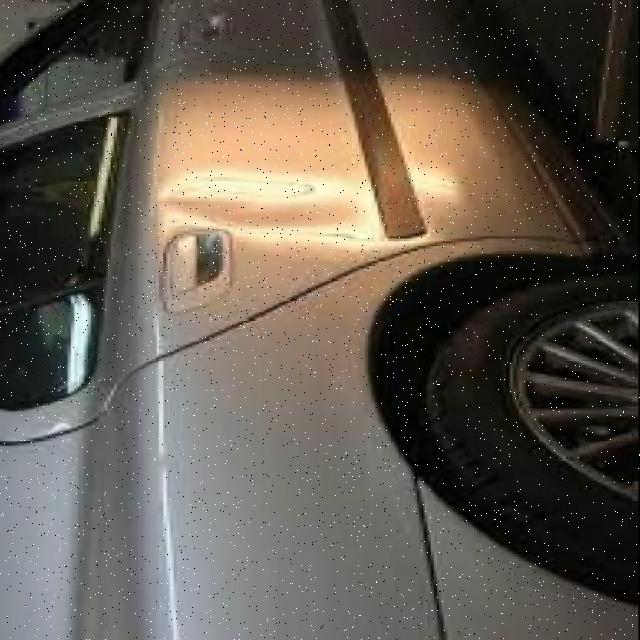damage: (158, 168, 464, 252)
